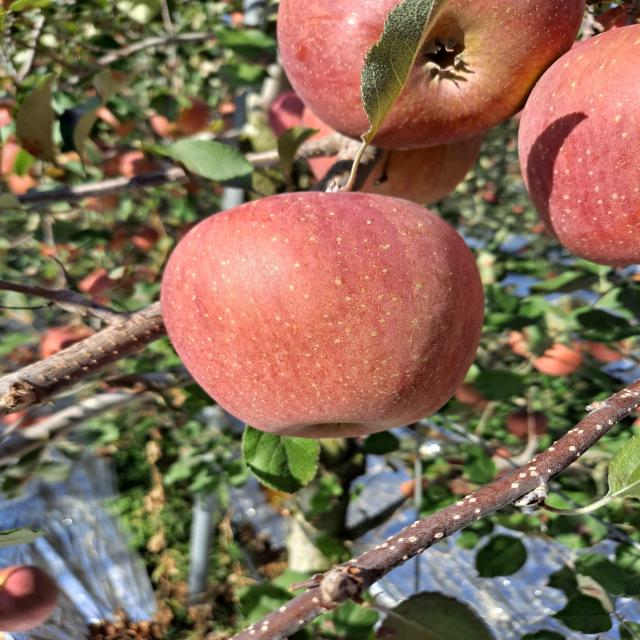fresh: (151, 184, 496, 448)
